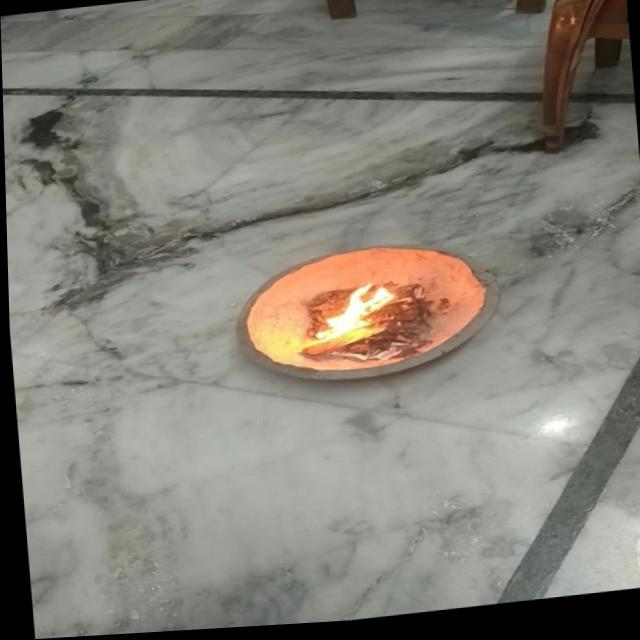fire: (296, 286, 402, 356)
